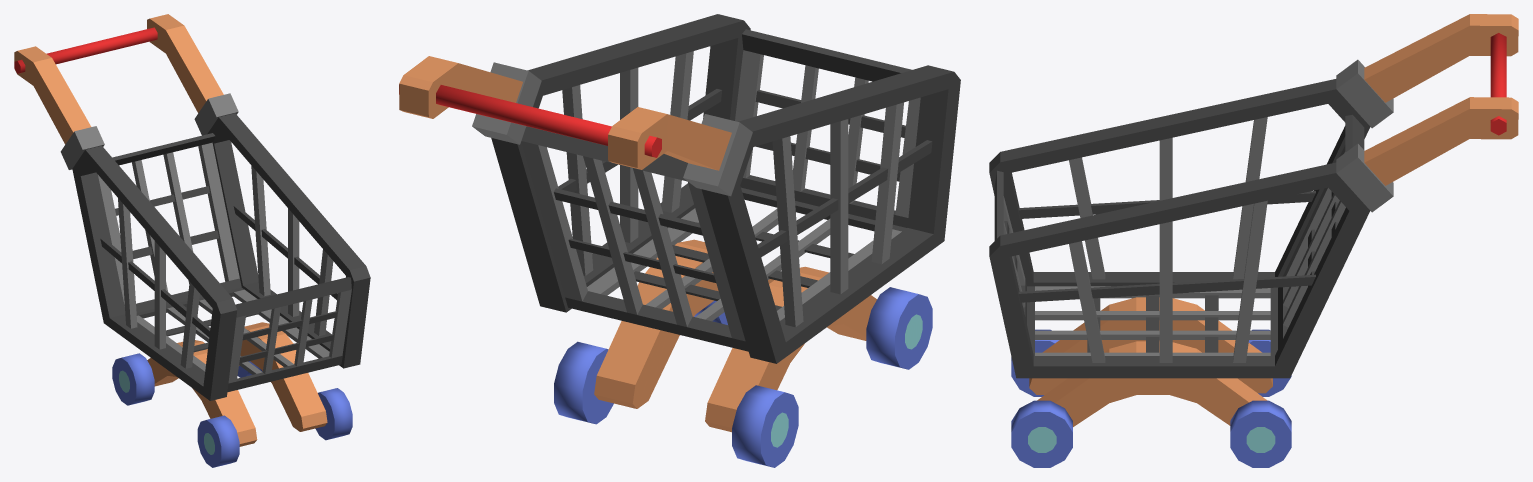
The model's file is Track.fbx.
3 views of the same model, side by side, from view 1: azimuth 30°, elevation 25°; view 2: azimuth 150°, elevation 25°; view 3: azimuth 270°, elevation 25° (orthographic). The views are drawn at different scales.
Visible parts, largest first — view 1: Track; view 2: Track; view 3: Track.
Part boxes in pixels (x1,y1,x2,y2): Track: (14, 14, 370, 467); Track: (399, 14, 960, 467); Track: (989, 14, 1518, 467).
Bounding box in the file's own units: 1.42 × 0.6419 × 1.09.
